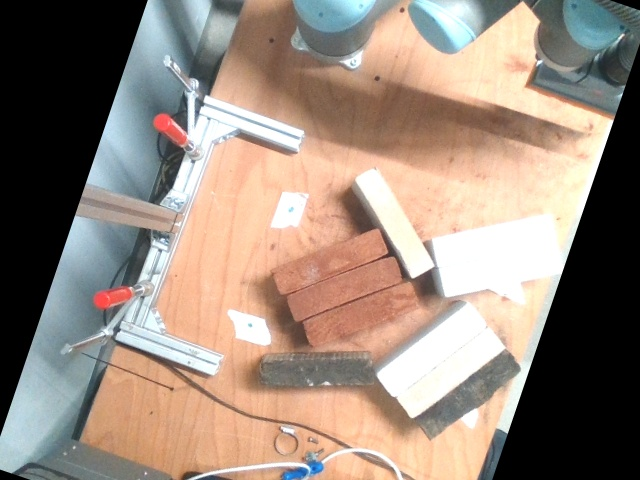brick-side: (379, 306, 483, 394), (399, 329, 503, 416), (419, 351, 521, 436), (356, 169, 432, 275), (273, 231, 386, 292), (287, 257, 400, 318), (305, 284, 418, 344), (444, 244, 559, 295), (437, 216, 551, 266), (259, 363, 371, 386)
